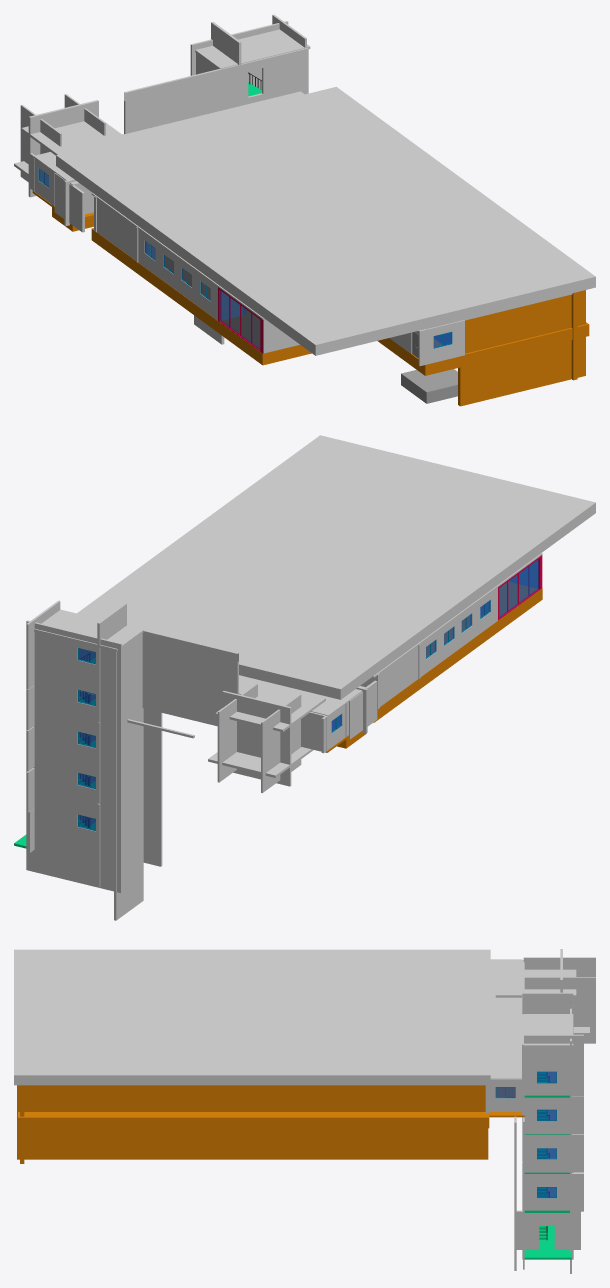
File: Map-1a.fbx
3 renders of one model, top to bottom at view 1: azimuth 30°, elevation 25°; view 2: azimuth 150°, elevation 25°; view 3: azimuth 270°, elevation 25°, orthographic. The views are drawn at different scales.
Visible parts, largest first — view 1: ground9, ground8, Wall24, Wall9, FireExitCeiling, ground3, ground2, ground4, pCube99, Wall21, pCube93, WindowGlass2 (+12 smaller); view 2: ground9, group13_Wall31, pCube90, Wall24, Wall29, Wall9, pCube91, pCube93, pCube96, ground3, pCube99, FireExitCeiling (+9 smaller); view 3: ground9, ground7, ground4, Wall25, ground, Wall27, Wall26, Wall30, Wall28, pCube97, pCube99, FireExitCeiling (+6 smaller).
Part boxes in pixels (bbox=[...]): ground9: bbox=[56, 86, 595, 355]; ground8: bbox=[458, 290, 585, 406]; Wall24: bbox=[124, 48, 308, 133]; Wall9: bbox=[97, 198, 217, 320]; FireExitCeiling: bbox=[195, 29, 310, 68]; ground3: bbox=[91, 228, 250, 332]; ground2: bbox=[218, 314, 311, 365]; ground4: bbox=[458, 322, 589, 367]; pCube99: bbox=[21, 118, 126, 155]; Wall21: bbox=[418, 320, 464, 366]; pCube93: bbox=[28, 100, 98, 197]; WindowGlass2: bbox=[220, 290, 260, 349]; ground9: bbox=[77, 435, 595, 699]; group13_Wall31: bbox=[26, 620, 121, 892]; pCube90: bbox=[114, 629, 143, 920]; Wall24: bbox=[65, 610, 238, 694]; Wall29: bbox=[79, 656, 328, 750]; Wall9: bbox=[380, 587, 497, 706]; pCube91: bbox=[143, 708, 162, 866]; pCube93: bbox=[222, 691, 291, 786]; pCube96: bbox=[261, 694, 301, 792]; ground3: bbox=[373, 616, 498, 722]; pCube99: bbox=[215, 681, 325, 732]; FireExitCeiling: bbox=[34, 609, 143, 651]; ground9: bbox=[14, 949, 490, 1085]; ground7: bbox=[17, 1085, 488, 1159]; ground4: bbox=[18, 1112, 489, 1128]; Wall25: bbox=[524, 1034, 583, 1096]; ground: bbox=[490, 959, 522, 1079]; Wall27: bbox=[524, 1134, 583, 1172]; Wall26: bbox=[524, 1096, 583, 1134]; Wall30: bbox=[516, 1210, 580, 1249]; Wall28: bbox=[524, 1173, 583, 1211]; pCube97: bbox=[524, 977, 595, 1043]; pCube99: bbox=[495, 964, 576, 997]; FireExitCeiling: bbox=[523, 1014, 573, 1047].
Bounding box in the file's own units: 26.74 × 25.63 × 49.42.
